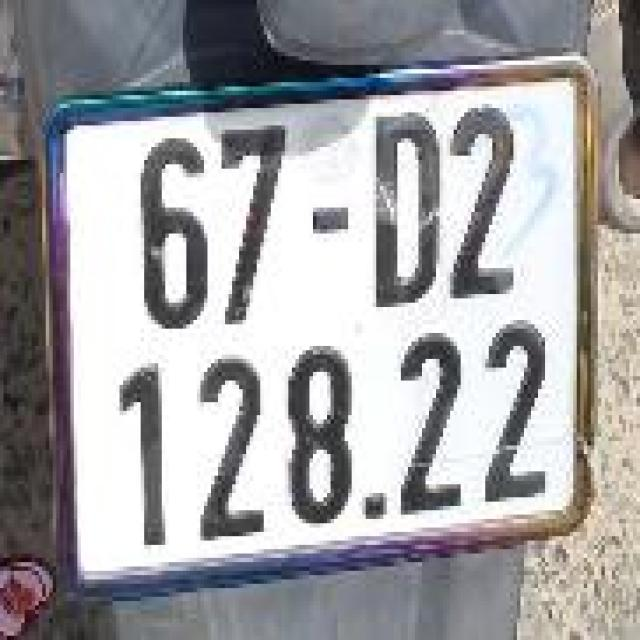1: (110, 354, 178, 566)
2: (478, 307, 570, 510), (448, 100, 540, 302), (185, 342, 276, 544), (388, 320, 469, 515)
6: (132, 114, 213, 343)
7: (213, 114, 290, 330)
8: (285, 324, 359, 532)
D: (367, 104, 445, 324)
